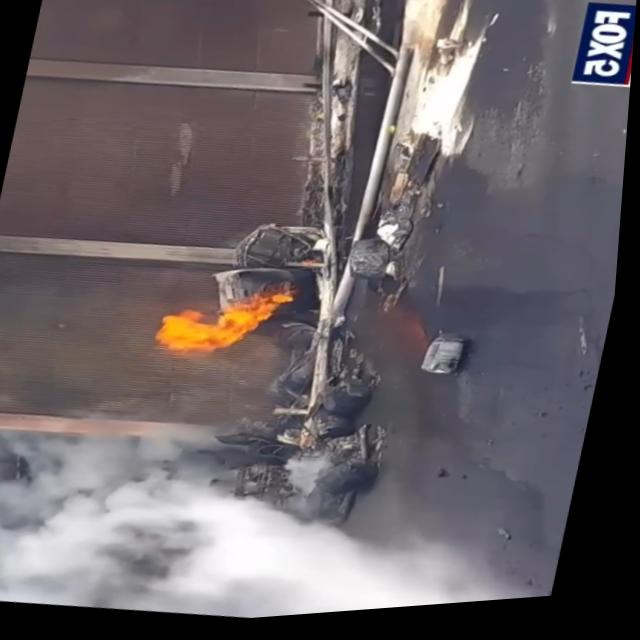Fire: (151, 275, 307, 375)
